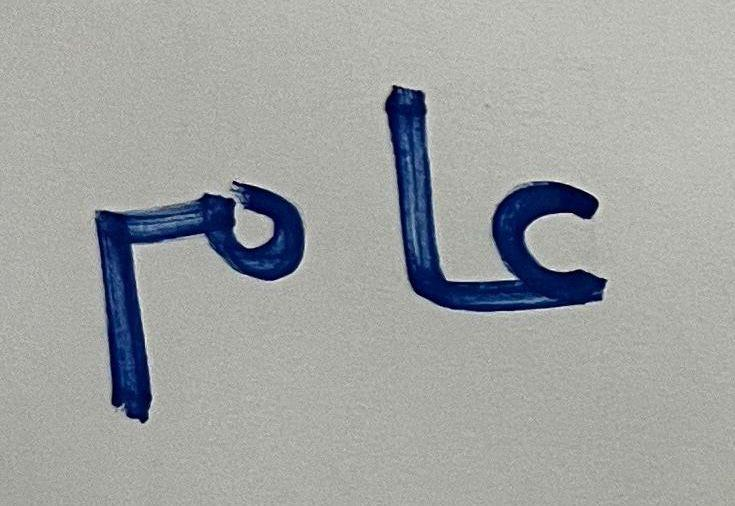ain: (465, 100, 647, 412)
alef: (356, 50, 457, 366)
meem: (40, 79, 349, 494)
